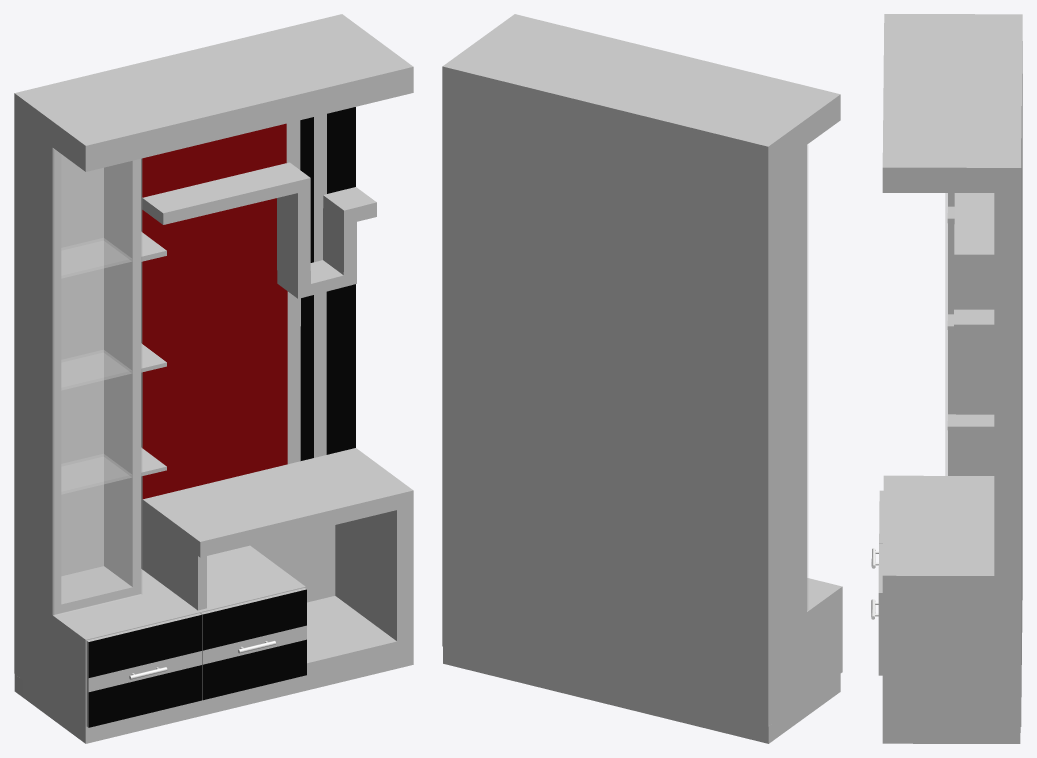
File: Lemari_Yudi_Kecil.glb
The picture shows the model from 3 angles, left to right: view 1: azimuth 30°, elevation 25°; view 2: azimuth 150°, elevation 25°; view 3: azimuth 270°, elevation 25°; orthographic projection. The views are drawn at different scales.
Visible parts, largest first — view 1: Cube; view 2: Cube; view 3: Cube.
Boxes of the visible parts, left/top/right/bottom form: Cube: left=14, top=14, right=413, bottom=743; Cube: left=442, top=14, right=842, bottom=743; Cube: left=878, top=14, right=1022, bottom=743.
Size of the model in its own units: 2.3 by 4.02 by 0.9581.
